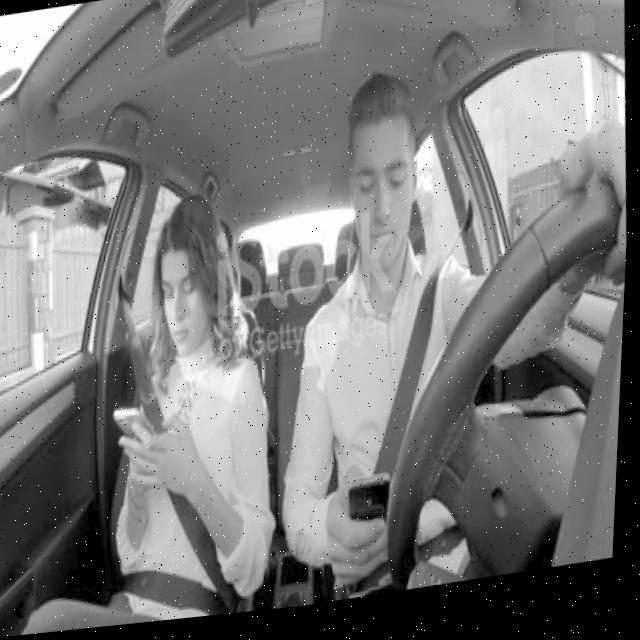PhoneCall: (348, 480, 398, 556), (113, 404, 164, 459)
